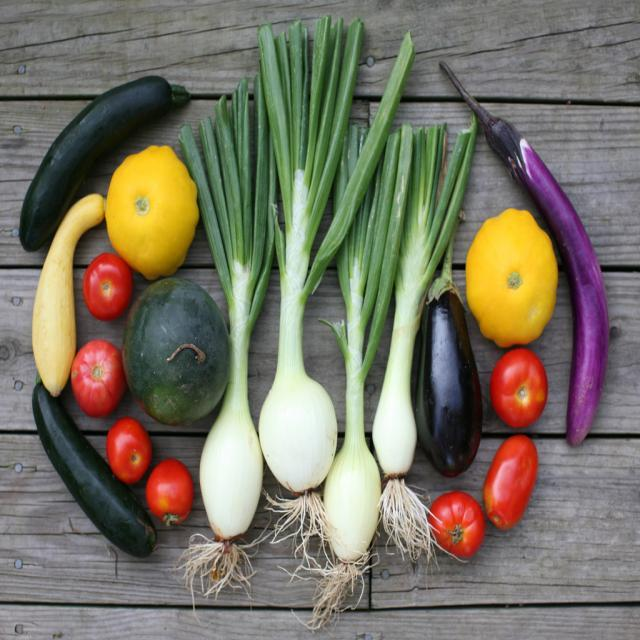Zucchini: (18, 70, 191, 250), (45, 400, 137, 551)
